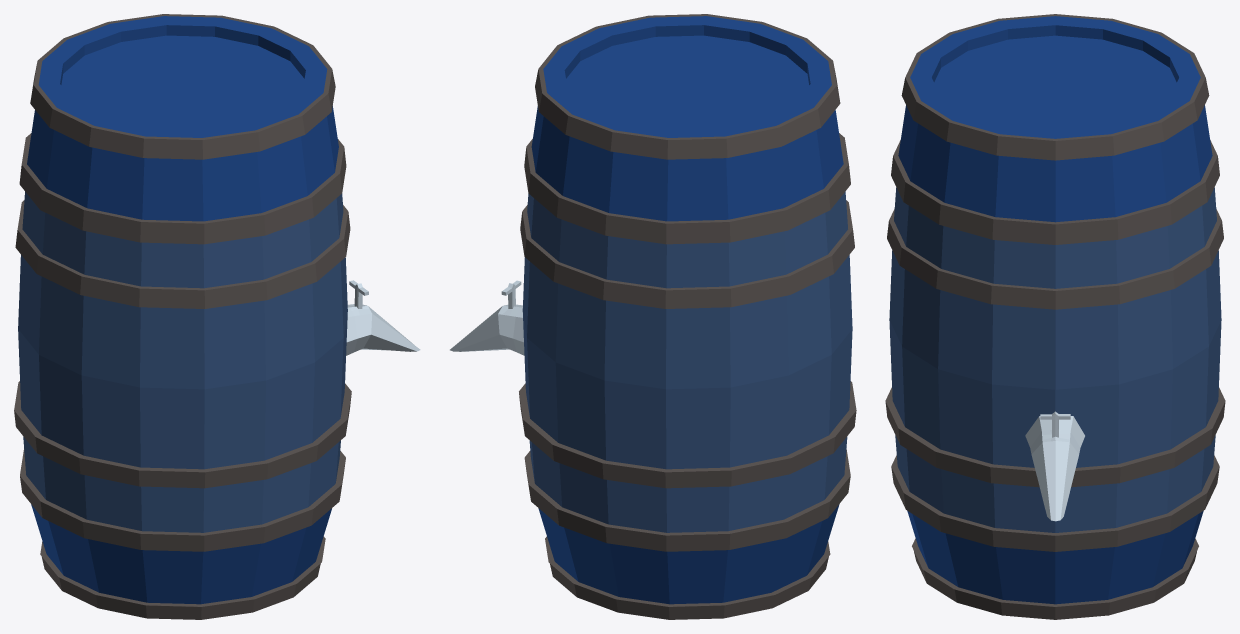
The model's file is waterBarrel.fbx.
The picture shows the model from 3 angles, left to right: view 1: azimuth 30°, elevation 25°; view 2: azimuth 150°, elevation 25°; view 3: azimuth 270°, elevation 25°; orthographic projection.
Visible parts, largest first — view 1: Cylinder; view 2: Cylinder; view 3: Cylinder.
Boxes of the visible parts, x1=… form: Cylinder: x1=14, y1=14, x2=420, y2=619; Cylinder: x1=450, y1=14, x2=856, y2=619; Cylinder: x1=885, y1=14, x2=1225, y2=619.
Bounding box in the file's own units: 271 × 328 × 209.
